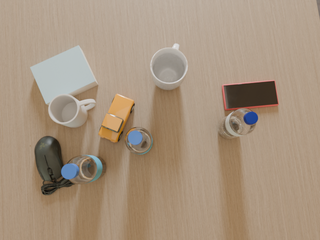book: (30, 46, 98, 105)
bottle: (61, 155, 106, 184), (218, 108, 258, 139), (125, 127, 153, 154)
cup: (150, 44, 188, 90), (49, 94, 96, 128)
mouse: (35, 136, 75, 195)
phone: (222, 80, 279, 110)
toy_car: (99, 94, 135, 142)
